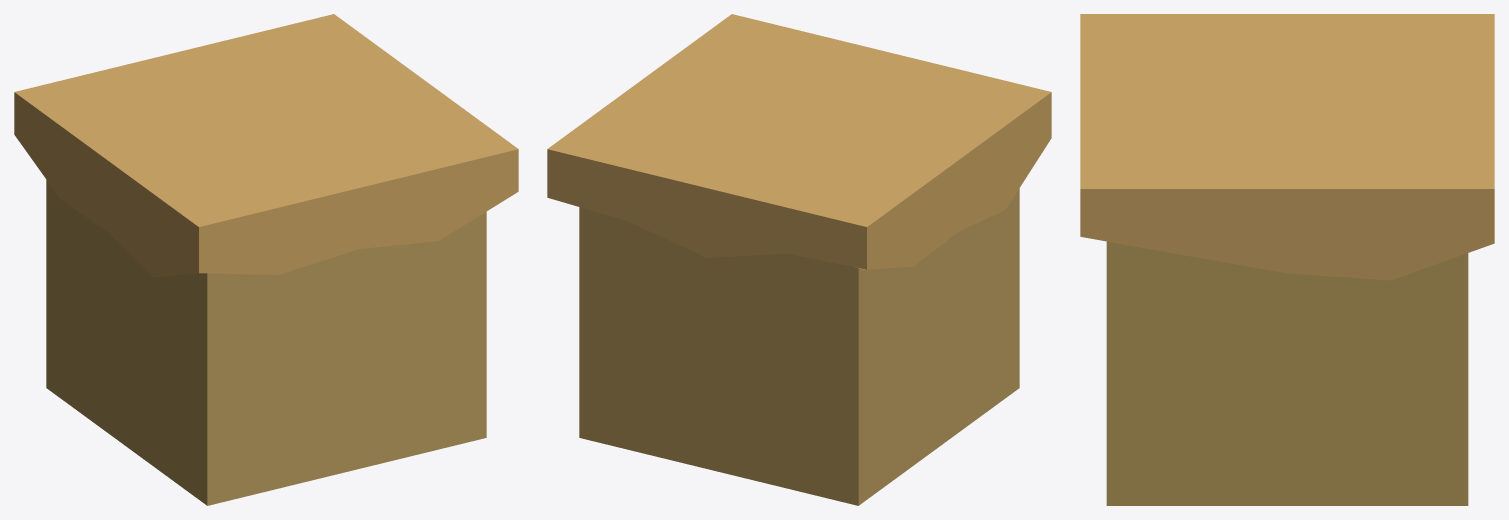
The model's file is Grid_Desert_4.fbx.
The picture shows the model from 3 angles, left to right: view 1: azimuth 30°, elevation 25°; view 2: azimuth 150°, elevation 25°; view 3: azimuth 270°, elevation 25°; orthographic projection. The views are drawn at different scales.
Visible parts, largest first — view 1: Cube.006; view 2: Cube.006; view 3: Cube.006.
Boxes of the visible parts, x1,y1,x2,y2 form: Cube.006: (14, 14, 518, 505); Cube.006: (547, 14, 1051, 505); Cube.006: (1080, 14, 1494, 505).
Bounding box in the file's own units: 114 × 100 × 114.
